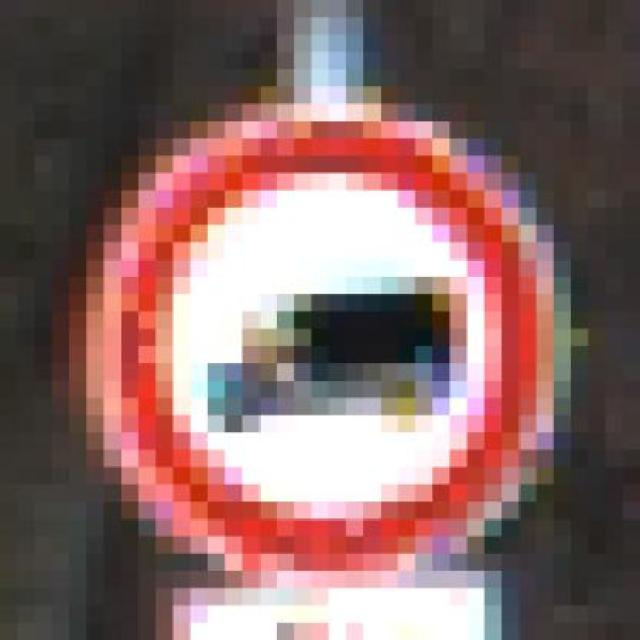Truck traffic is prohibited: (51, 104, 588, 588)
